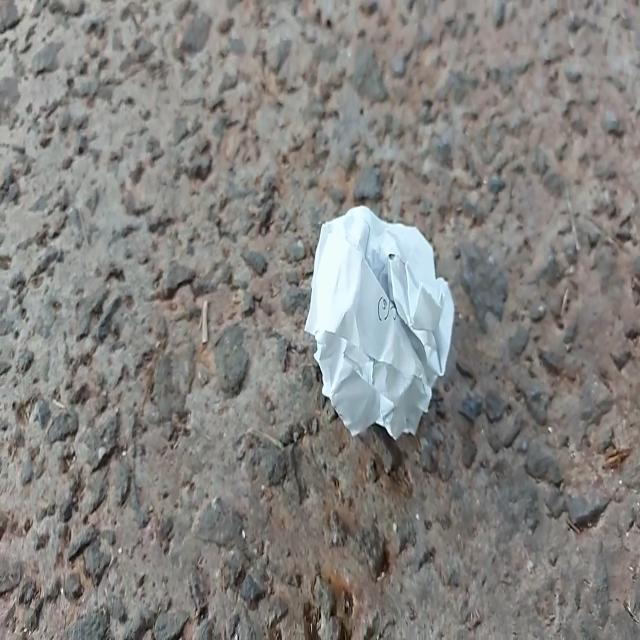Paper: (295, 177, 468, 470)
